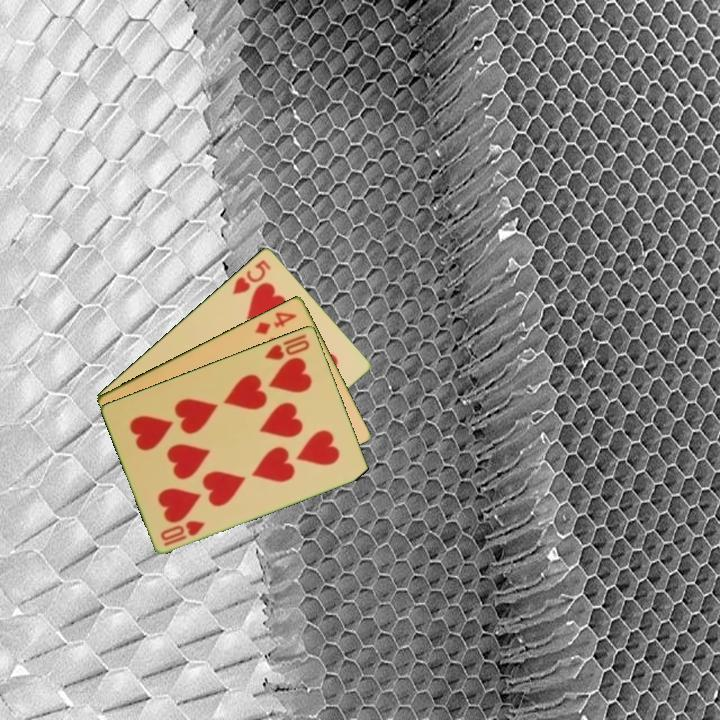10h: (261, 330, 313, 363), (157, 516, 208, 548)
4d: (251, 308, 299, 337)
5h: (229, 256, 274, 297)
